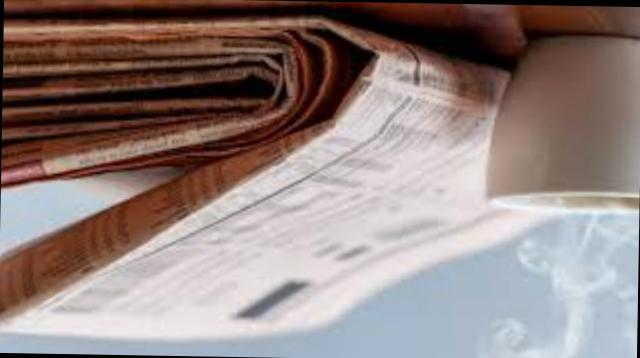cardboard paper: (0, 18, 524, 340)
